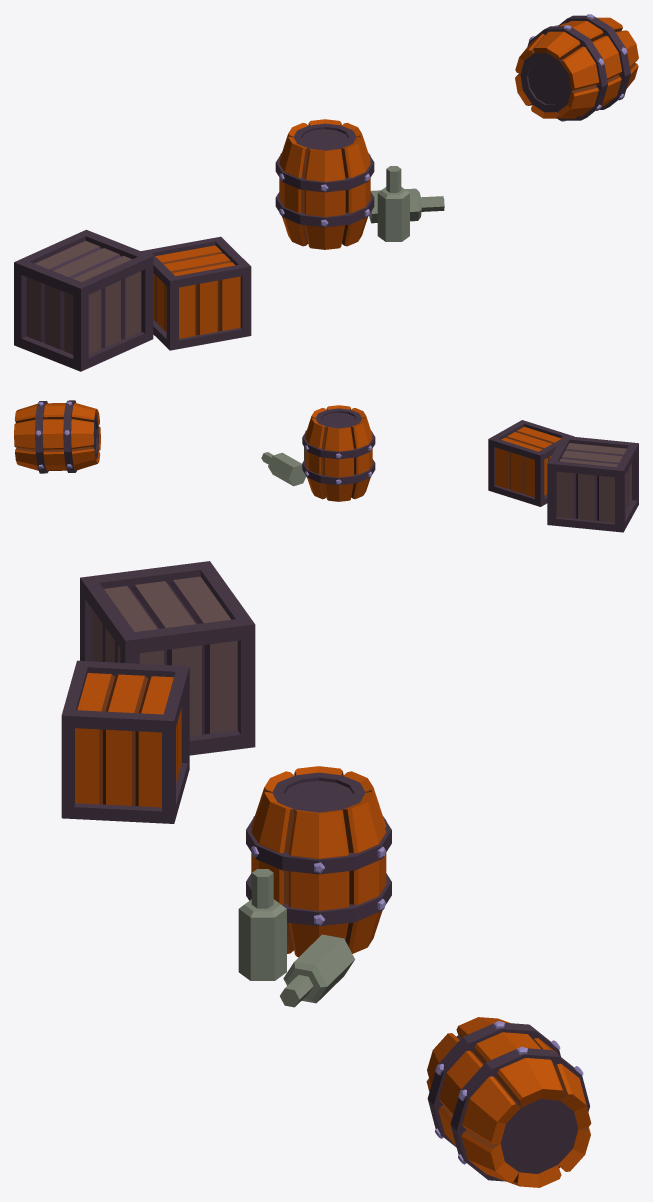
Rendered from seamanroom4.fbx.
3 renders of one model, top to bottom at view 1: azimuth 30°, elevation 25°; view 2: azimuth 150°, elevation 25°; view 3: azimuth 270°, elevation 25°, orthographic. The views are drawn at different scales.
Parts seen in each view (by area): view 1: seamanroom4; view 2: seamanroom4; view 3: seamanroom4.
Boxes of the visible parts, <box> form: seamanroom4: <box>14,14,638,371</box>; seamanroom4: <box>14,400,638,532</box>; seamanroom4: <box>61,561,591,1187</box>.
Bounding box in the file's own units: 622 × 86.25 × 268.
